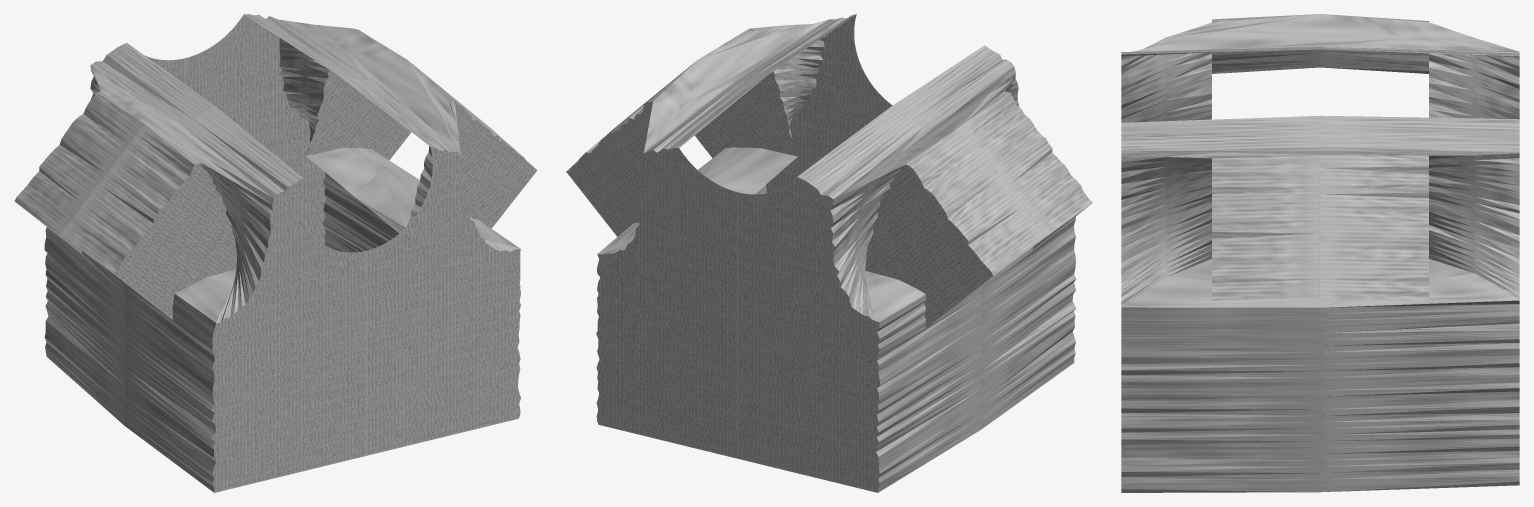
The model's file is bust_plus_1cm_boxmesh.obj.
The picture shows the model from 3 angles, left to right: view 1: azimuth 30°, elevation 25°; view 2: azimuth 150°, elevation 25°; view 3: azimuth 270°, elevation 25°; orthographic projection. The views are drawn at different scales.
Size of the model in its own units: 75.64 by 50.07 by 55.
1 material, 1 textured.
